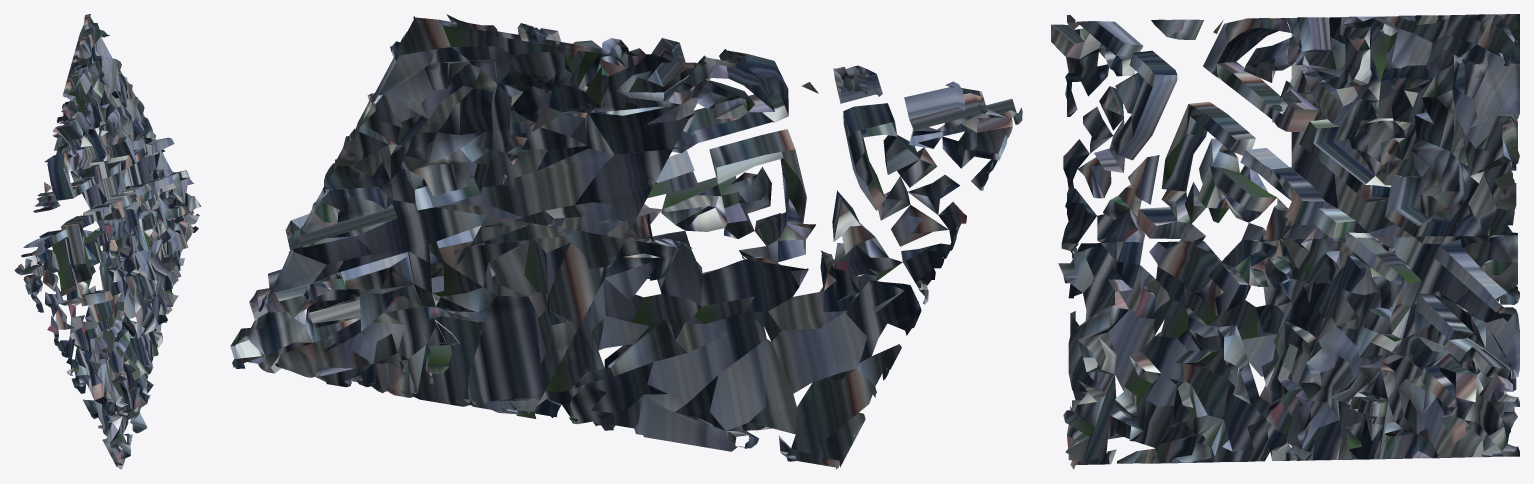
3 views of the same model, side by side, from view 1: azimuth 30°, elevation 25°; view 2: azimuth 150°, elevation 25°; view 3: azimuth 270°, elevation 25° (orthographic). The views are drawn at different scales.
Parts seen in each view (by area): view 1: node_3043627270436070_mesh0, node_3043627270436070_mesh1; view 2: node_3043627270436070_mesh0, node_3043627270436070_mesh1; view 3: node_3043627270436070_mesh0, node_3043627270436070_mesh1.
Part boxes in pixels (left/top/right/bottom): node_3043627270436070_mesh0: left=14, top=14, right=199, bottom=469; node_3043627270436070_mesh1: left=23, top=25, right=201, bottom=464; node_3043627270436070_mesh0: left=235, top=14, right=1022, bottom=469; node_3043627270436070_mesh1: left=230, top=17, right=1012, bottom=453; node_3043627270436070_mesh0: left=1051, top=14, right=1519, bottom=469; node_3043627270436070_mesh1: left=1058, top=14, right=1519, bottom=464.
Bounding box in the file's own units: 589 × 586 × 462.
2 materials, 2 textured.
